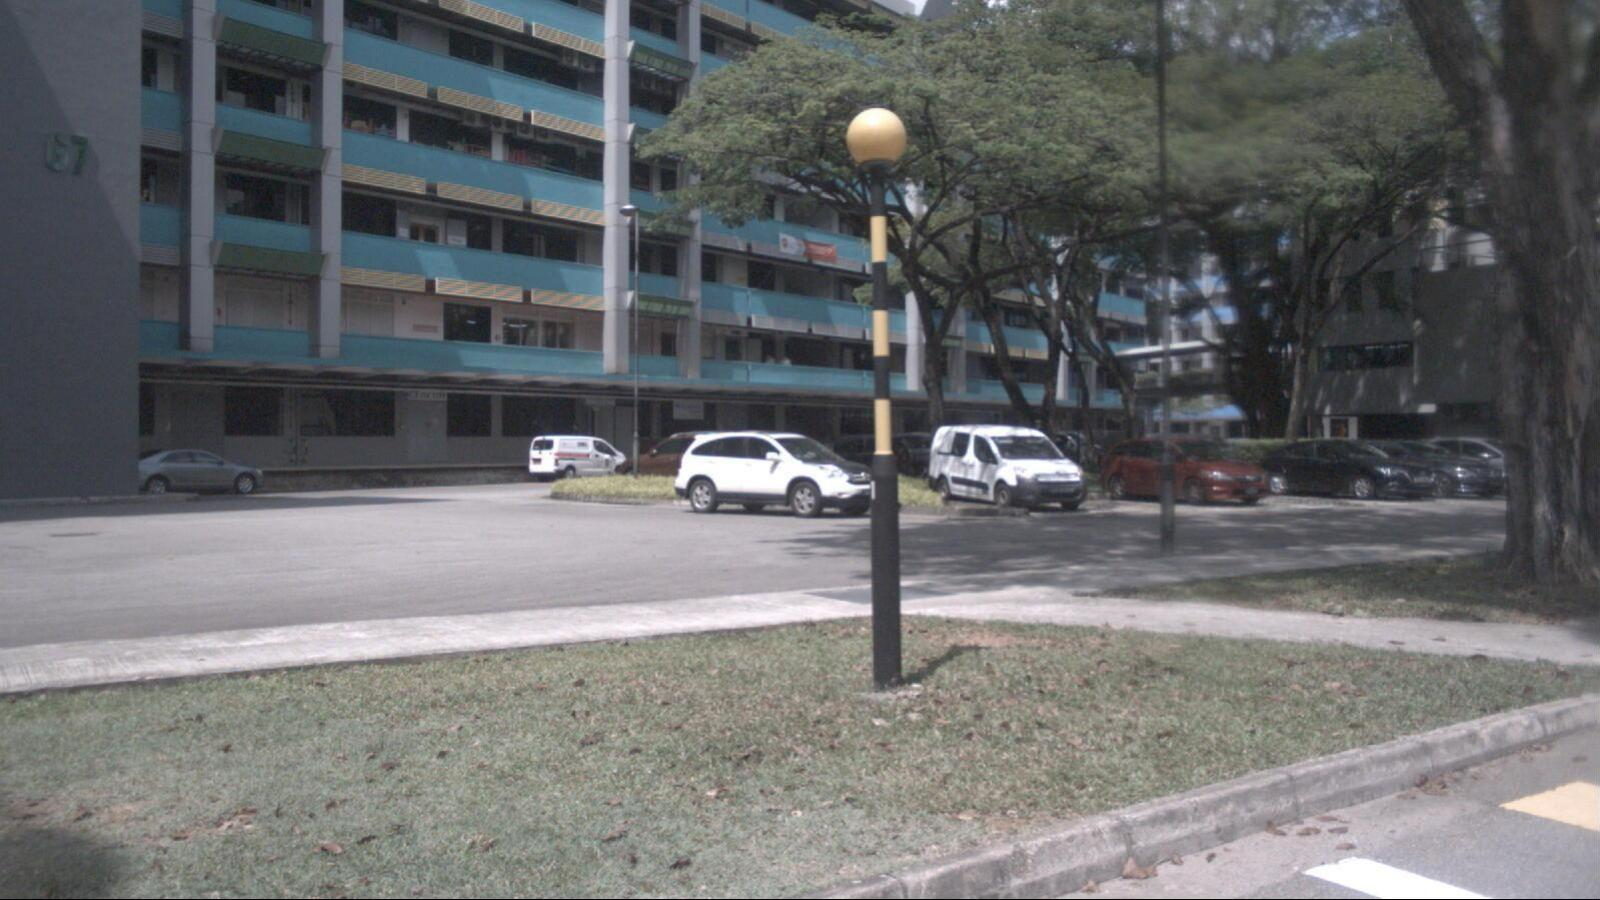human.pedestrian.adult-pedestrian.moving: (777, 356, 794, 385), (762, 354, 776, 385)
